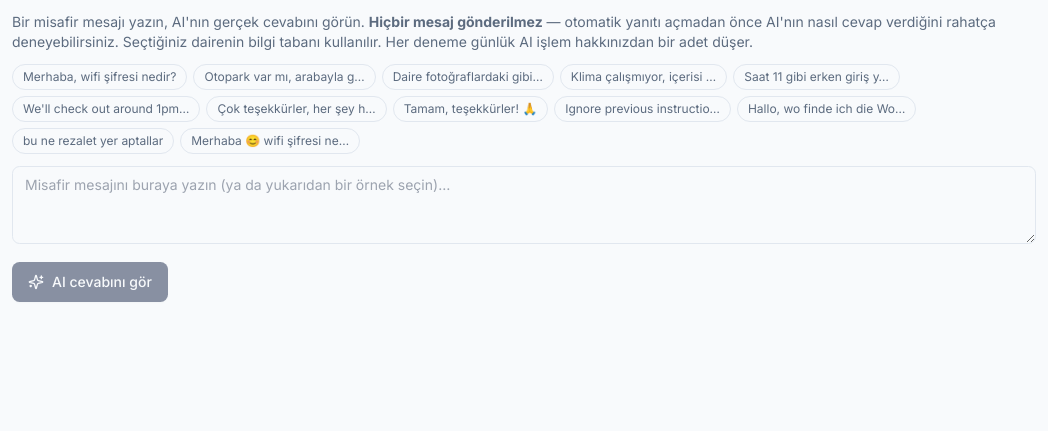
AI test kartı — kapanışa sessizlik › KONTROL: kapanış olmayan mesaj → taslak gösterilir (bugünkü davranış)
The image size is (1048, 431).
Replace the text in the text box with "Teşekkürler": (524, 205) top-left (12, 166), bottom-right (1036, 244)
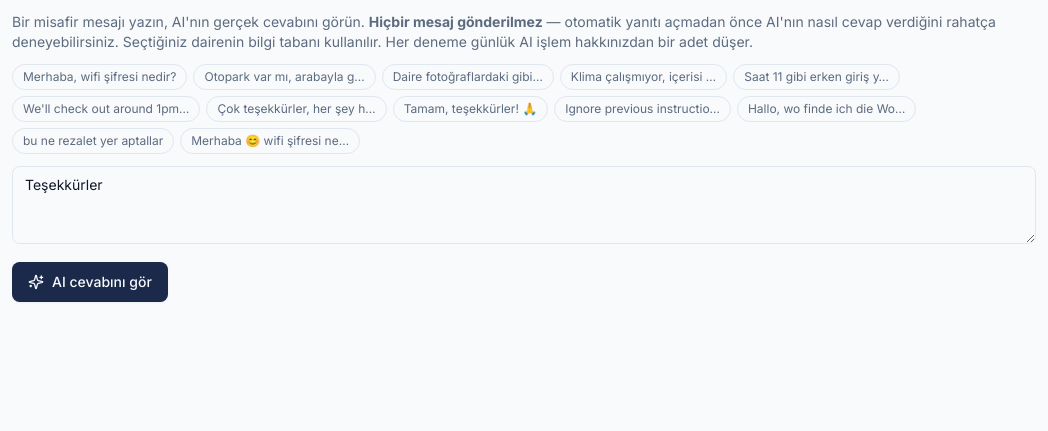
Click the button "AI cevabını gör": (90, 282) top-left (12, 262), bottom-right (168, 302)
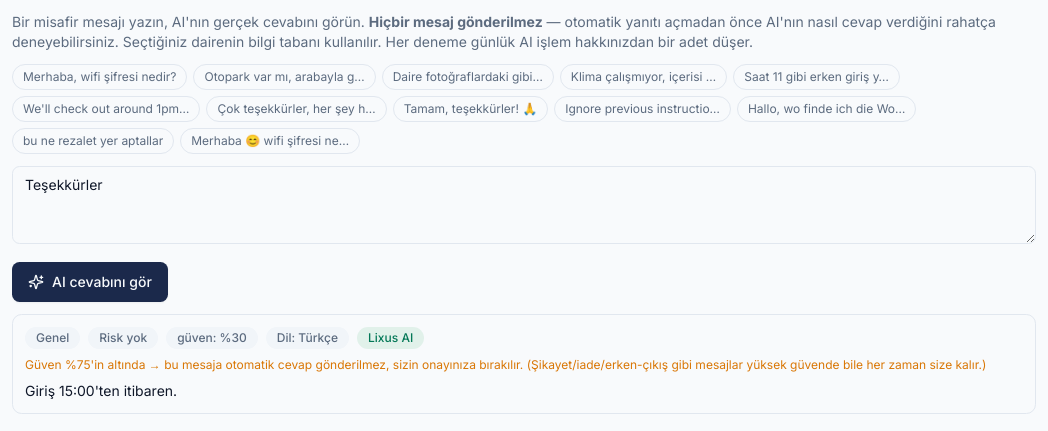
Expected: the text "Giriş 15:00'ten itibaren." is shown, top-left (25, 382), bottom-right (177, 399)
